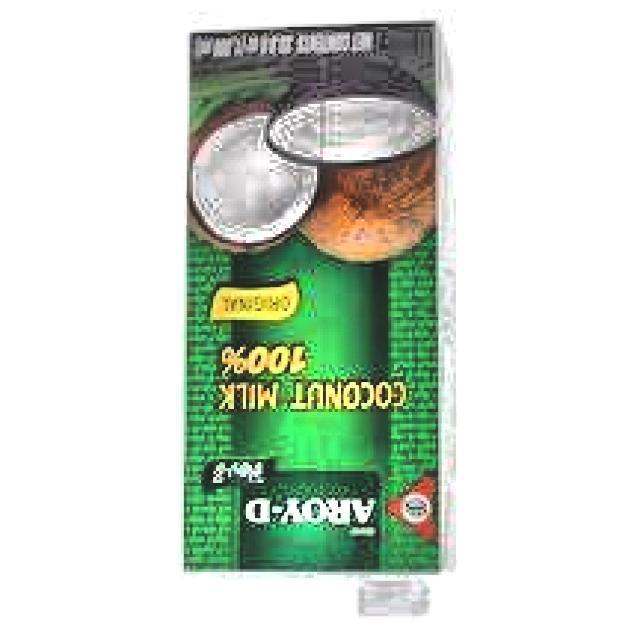cardboard: (183, 24, 460, 584)
